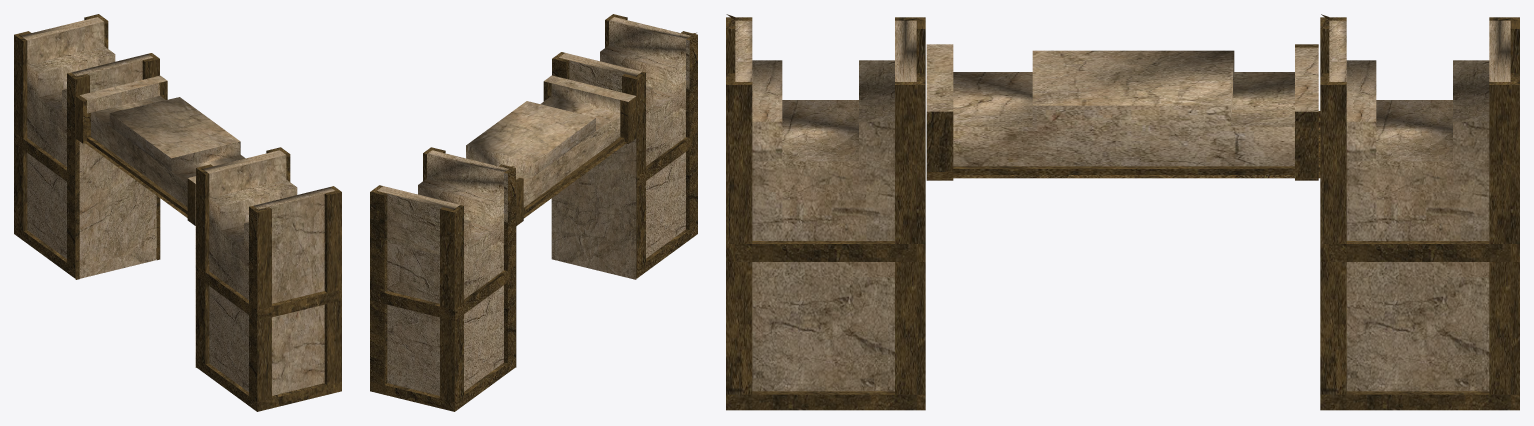
File: Yamato_wall_entrance_onConstruction.fbx
3 views of the same model, side by side, from view 1: azimuth 30°, elevation 25°; view 2: azimuth 150°, elevation 25°; view 3: azimuth 270°, elevation 25° (orthographic). The views are drawn at different scales.
Visible parts, largest first — view 1: Cube.002, Cube.005, Cube.000, Plane; view 2: Cube.000, Cube.005, Cube.002, Plane; view 3: Cube.000, Cube.002, Cube.005, Plane.
Part boxes in pixels (box(x1,y1,x2,y2)): Cube.002: box(196, 147, 341, 411); Cube.005: box(75, 75, 245, 367); Cube.000: box(14, 14, 159, 278); Plane: box(84, 141, 187, 217); Cube.000: box(370, 147, 515, 411); Cube.005: box(466, 75, 636, 367); Cube.002: box(552, 14, 697, 278); Plane: box(523, 141, 627, 218); Cube.000: box(1320, 14, 1519, 410); Cube.002: box(726, 14, 925, 410); Cube.005: box(926, 44, 1318, 180); Plane: box(930, 111, 1320, 178).
Size of the model in its own units: 221 by 502 by 1094.
